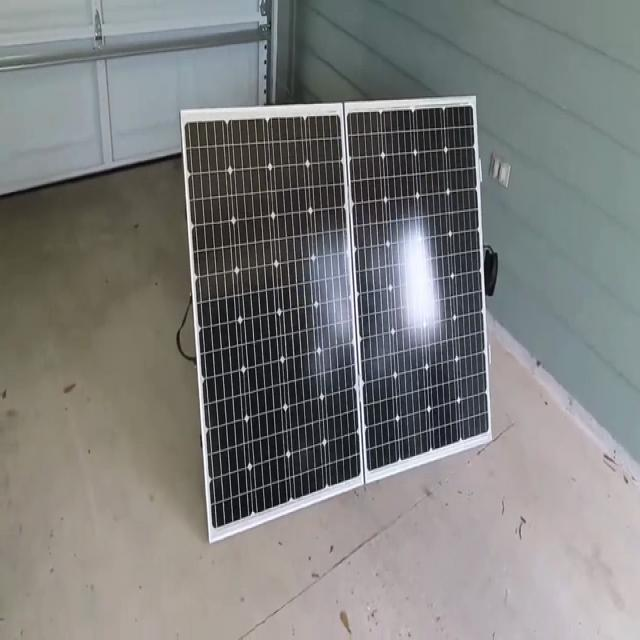Normal Solar Panel: (184, 113, 362, 531), (348, 106, 490, 478)
